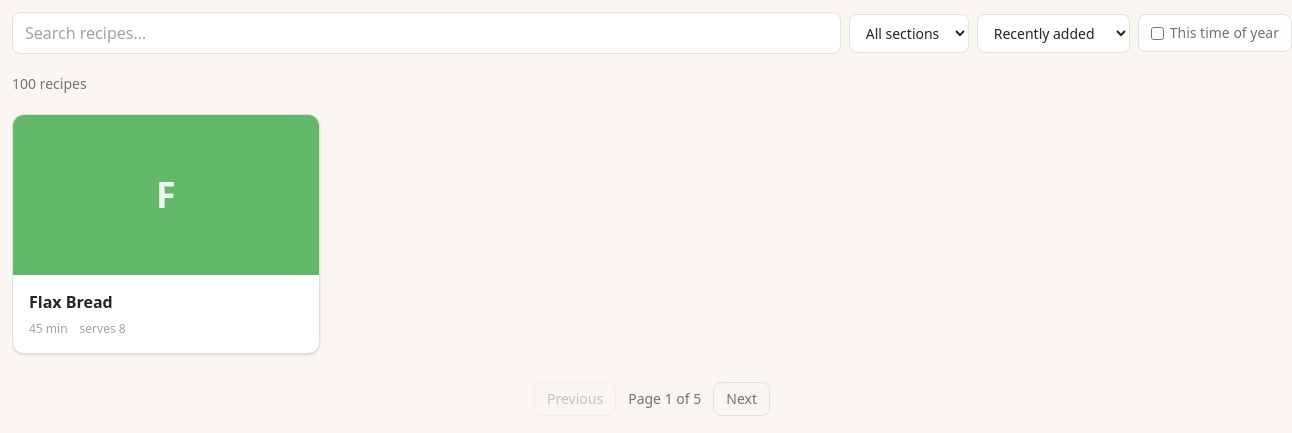
Test: RecipeListPage › pages forward, resetting when a filter changes
Expected: the text "Page 1 of 5" is shown, [628,389,701,409]
Step 1. Click the button "Next" → x=742, y=399, box [713,382,770,416]
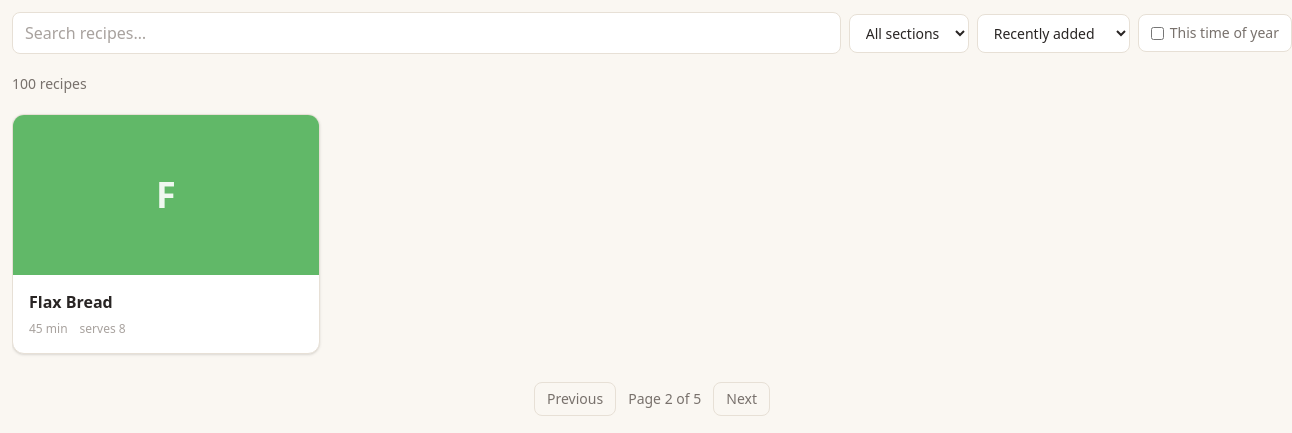
Expected: the text "Page 2 of 5" is shown, [628,389,701,409]
